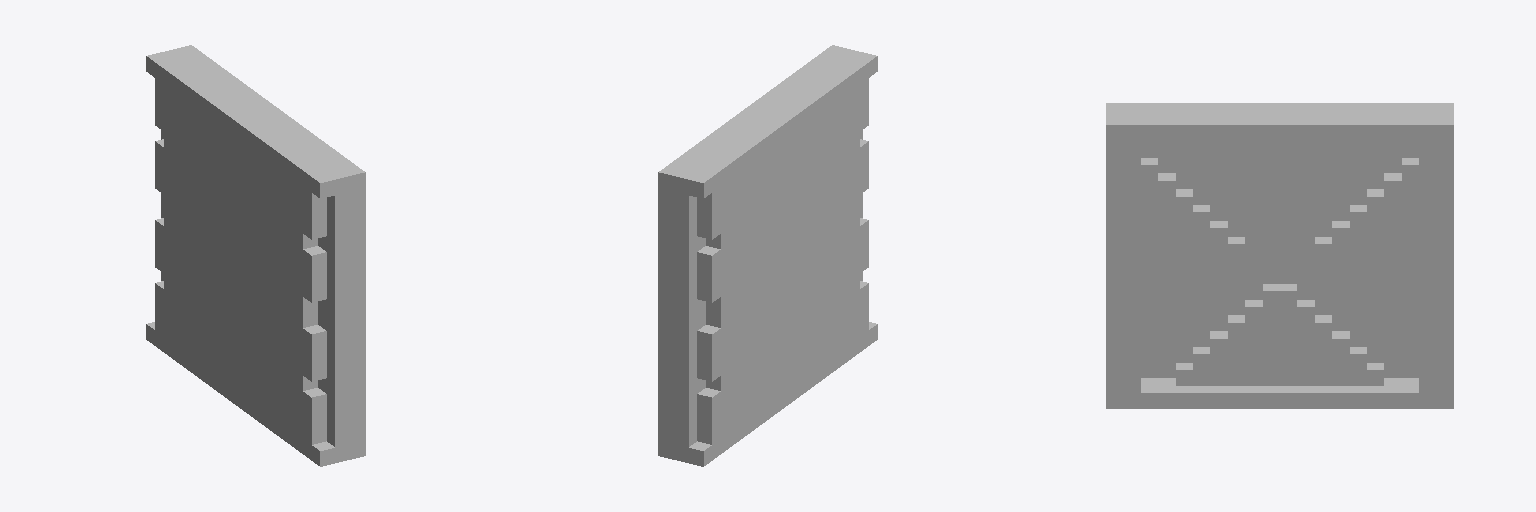
The model's file is caja 2 partida-2.obj.
3 renders of one model, left to right at view 1: azimuth 30°, elevation 25°; view 2: azimuth 150°, elevation 25°; view 3: azimuth 270°, elevation 25°, orthographic.
Parts seen in each view (by area): view 1: object 1; view 2: object 1; view 3: object 1.
Part boxes in pixels (x1,y1,x2,y2): object 1: (146,45,365,466); object 1: (658,45,877,466); object 1: (1106,103,1453,408).
Size of the model in its own units: 0.3 by 1.8 by 2.